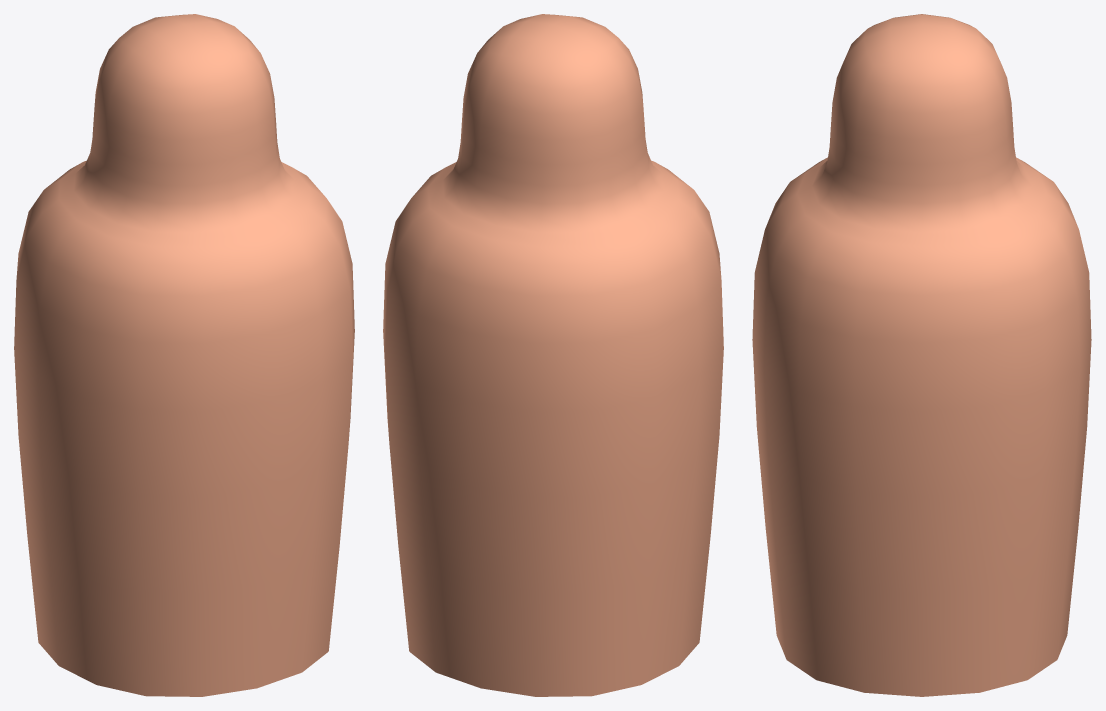
File: player.glb
The picture shows the model from 3 angles, left to right: view 1: azimuth 30°, elevation 25°; view 2: azimuth 150°, elevation 25°; view 3: azimuth 270°, elevation 25°; orthographic projection.
Parts seen in each view (by area): view 1: Player; view 2: Player; view 3: Player.
Part boxes in pixels (x1=…): Player: x1=14, y1=14, x2=354, y2=696; Player: x1=383, y1=14, x2=723, y2=696; Player: x1=752, y1=14, x2=1091, y2=696.
Size of the model in its own units: 1.63 by 3.24 by 1.63.
